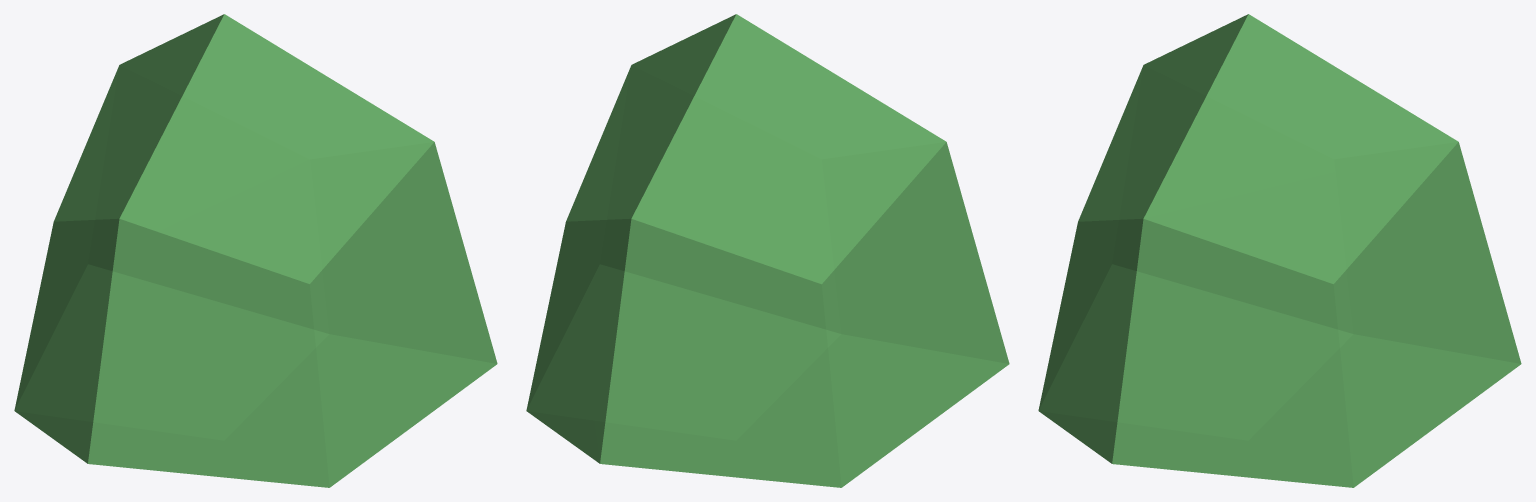
Rendered from TrapezohedralTristetrahedron_n2.obj.
3 renders of one model, left to right at view 1: azimuth 30°, elevation 25°; view 2: azimuth 150°, elevation 25°; view 3: azimuth 270°, elevation 25°, orthographic.
Size of the model in its own units: 10.4 by 10.35 by 10.62.
